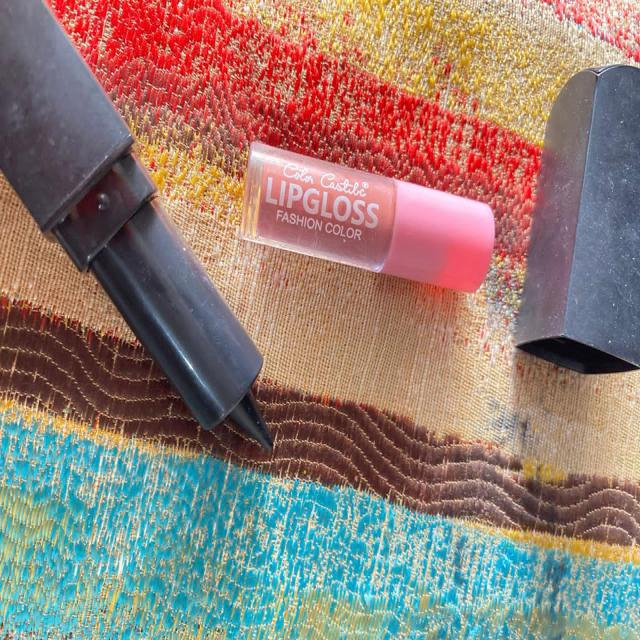kajal: (0, 93, 279, 484)
lip gloss: (228, 123, 512, 312)
